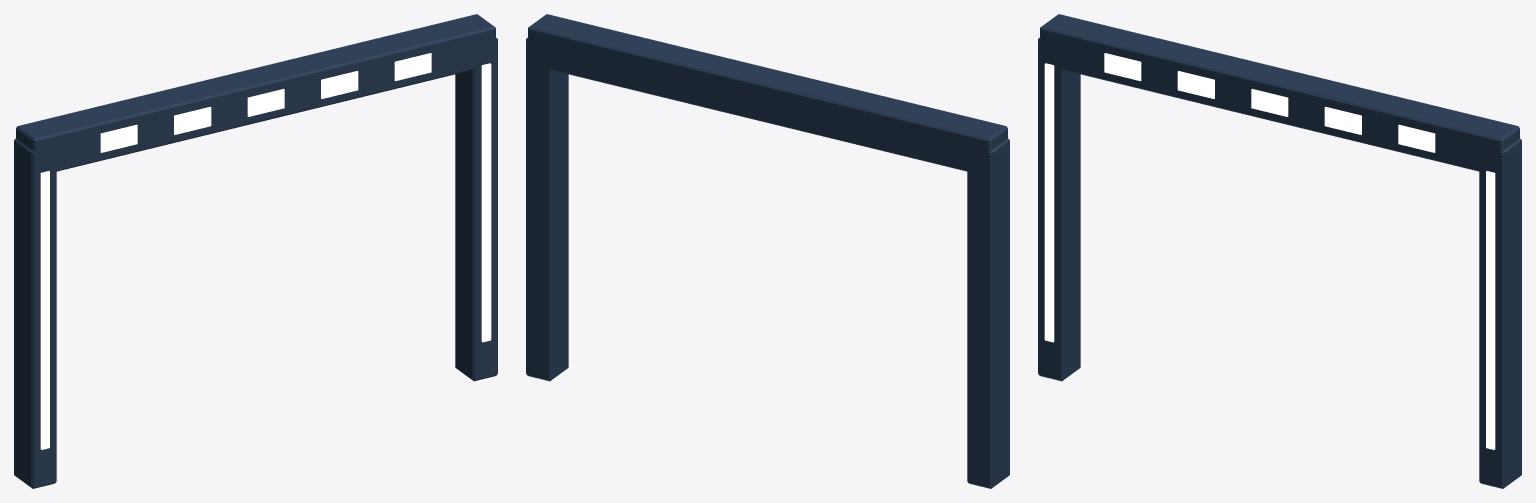
The model's file is props-checkpoint.lod0.glb.
The picture shows the model from 3 angles, left to right: view 1: azimuth 30°, elevation 25°; view 2: azimuth 150°, elevation 25°; view 3: azimuth 330°, elevation 25°; orthographic projection.
Visible parts, largest first — view 1: props-checkpoint__body; view 2: props-checkpoint__body; view 3: props-checkpoint__body.
Part boxes in pixels (<box>): props-checkpoint__body: <box>14,14,497,488</box>; props-checkpoint__body: <box>526,14,1009,488</box>; props-checkpoint__body: <box>1038,14,1521,488</box>.
Bounding box in the file's own units: 6.35 × 4.55 × 0.475.
